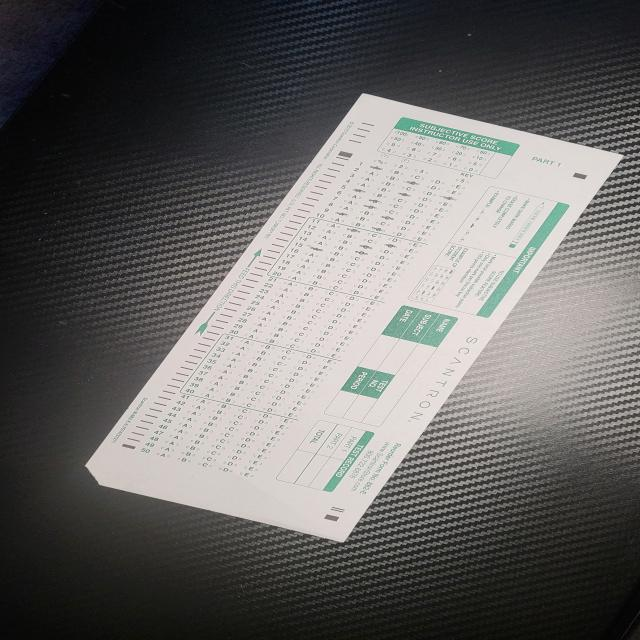scantron: (84, 94, 626, 543)
